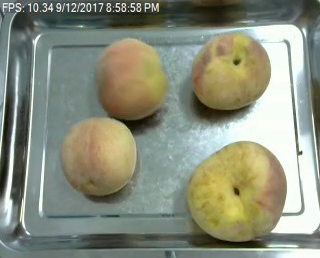Peach: (186, 140, 287, 241), (193, 31, 272, 110), (60, 117, 138, 195), (96, 37, 167, 120)
